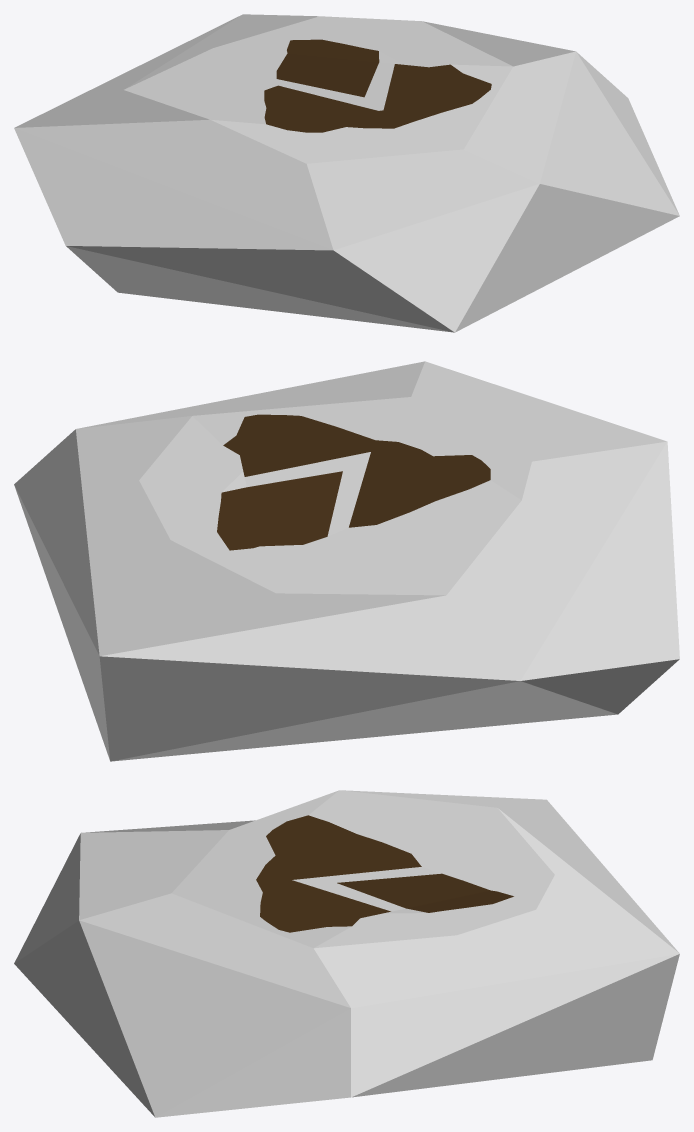
The model's file is Rune_Earth.fbx.
The picture shows the model from 3 angles, top to bottom: view 1: azimuth 30°, elevation 25°; view 2: azimuth 150°, elevation 25°; view 3: azimuth 270°, elevation 25°; orthographic projection. The views are drawn at different scales.
Parts seen in each view (by area): view 1: Rune_Earth; view 2: Rune_Earth; view 3: Rune_Earth.
Part boxes in pixels (x1,y1,x2,y2): Rune_Earth: (14, 14, 679, 332); Rune_Earth: (14, 361, 679, 761); Rune_Earth: (14, 790, 679, 1117).
Bounding box in the file's own units: 20.29 × 6.66 × 19.8.
